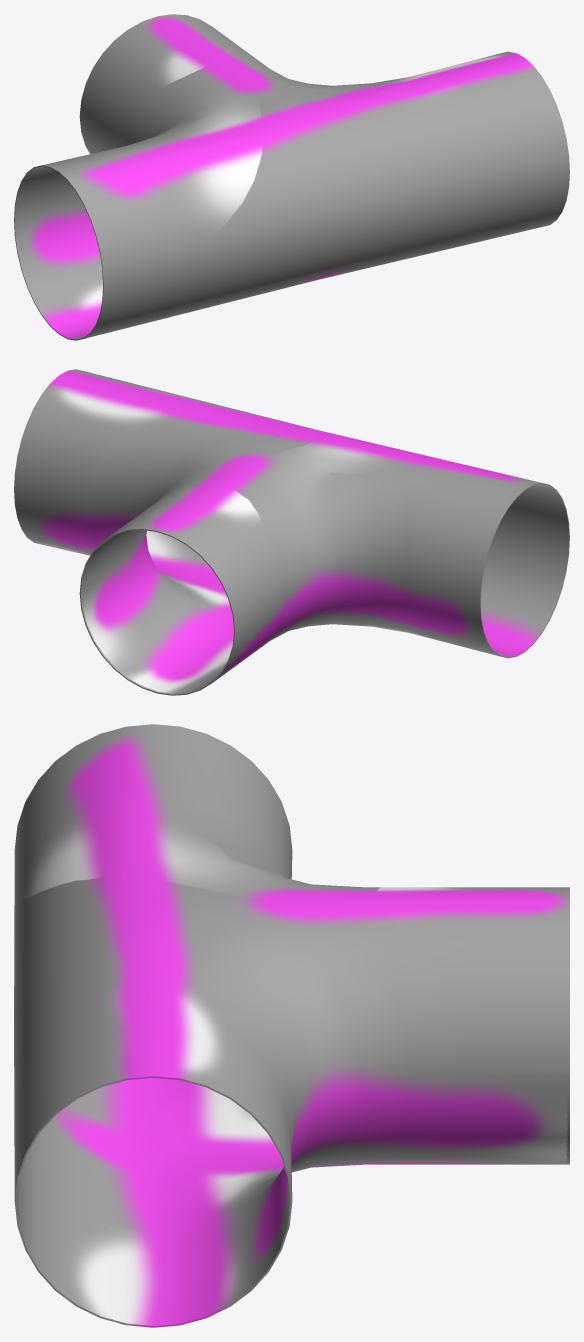
The model's file is T junction.fbx.
3 renders of one model, top to bottom at view 1: azimuth 30°, elevation 25°; view 2: azimuth 150°, elevation 25°; view 3: azimuth 270°, elevation 25°, orthographic. The views are drawn at different scales.
Parts seen in each view (by area): view 1: T-intersect tube.002; view 2: T-intersect tube.002; view 3: T-intersect tube.002.
Boxes of the visible parts, <box> form: T-intersect tube.002: <box>14,14,569,340</box>; T-intersect tube.002: <box>14,369,569,695</box>; T-intersect tube.002: <box>14,724,569,1327</box>.
Bounding box in the file's own units: 1800 × 600 × 1202.
